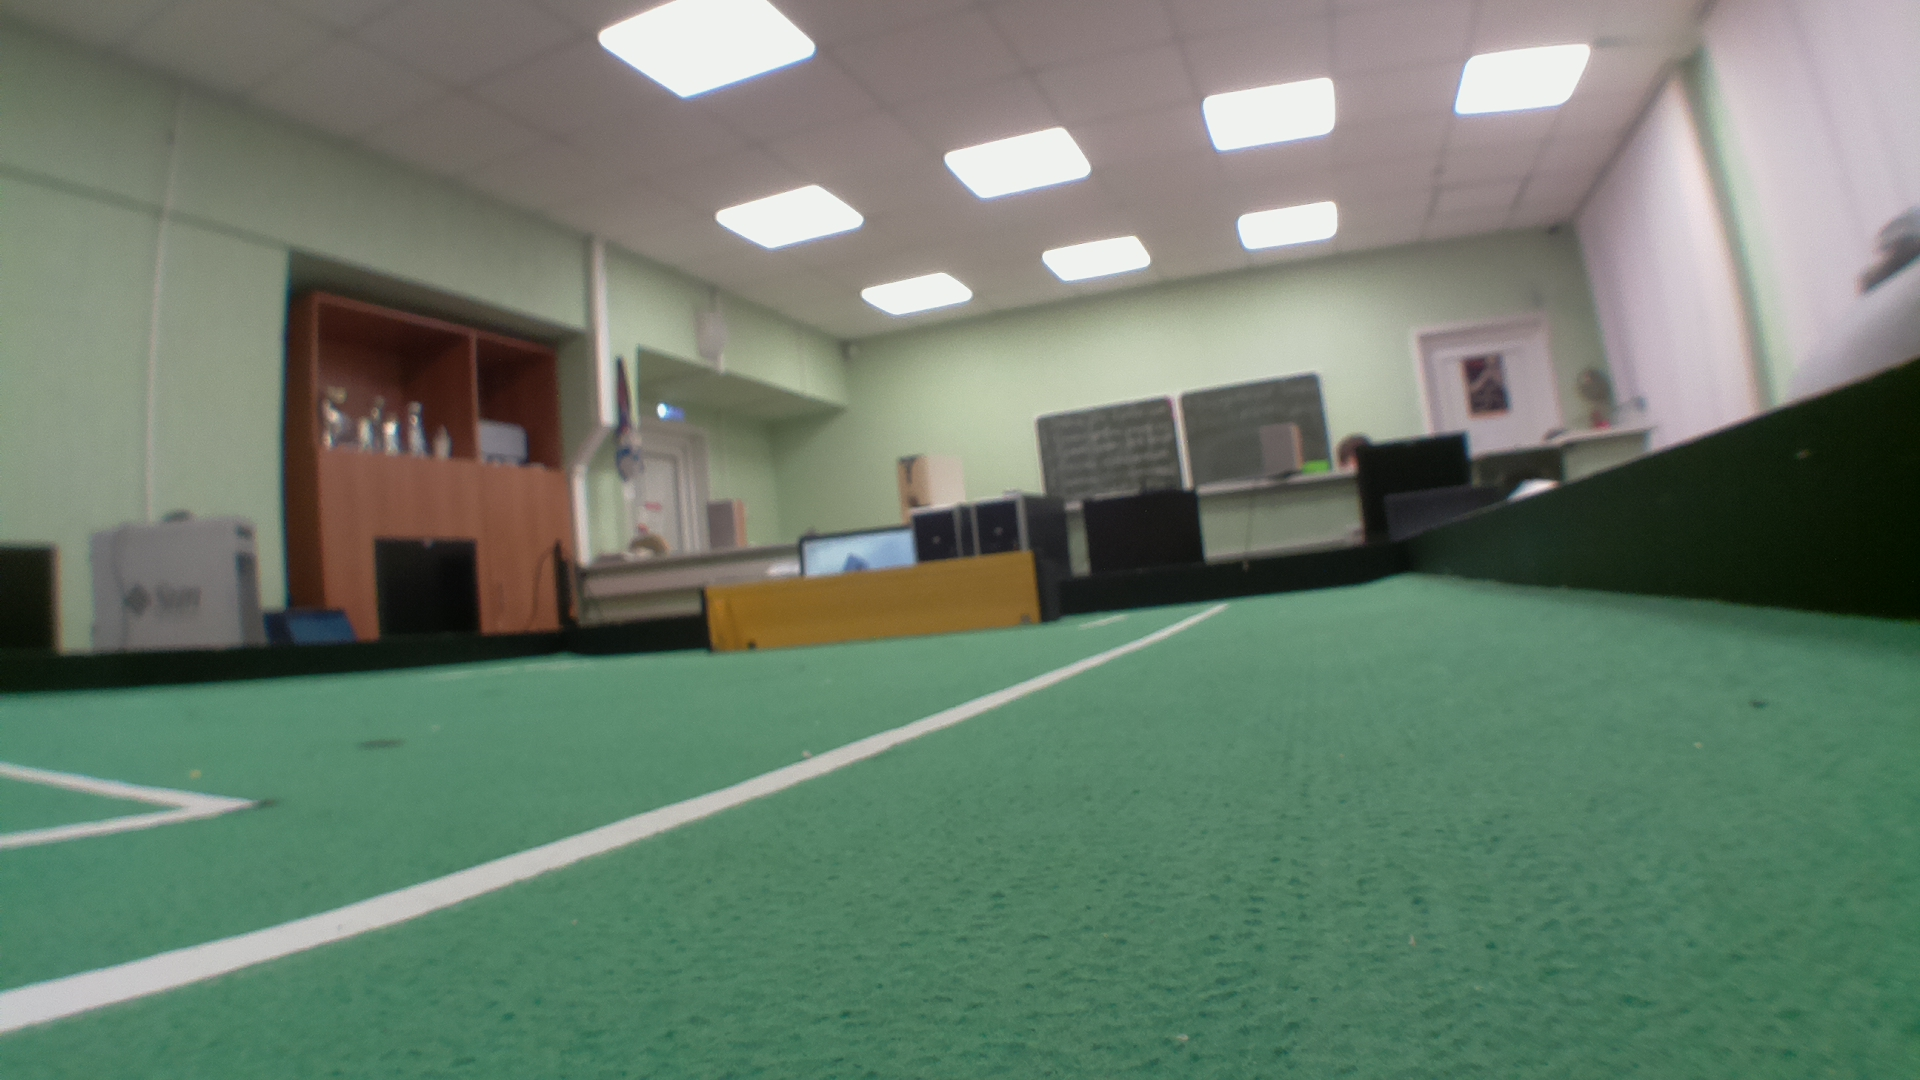YellowGoal: (703, 551, 1038, 649)
